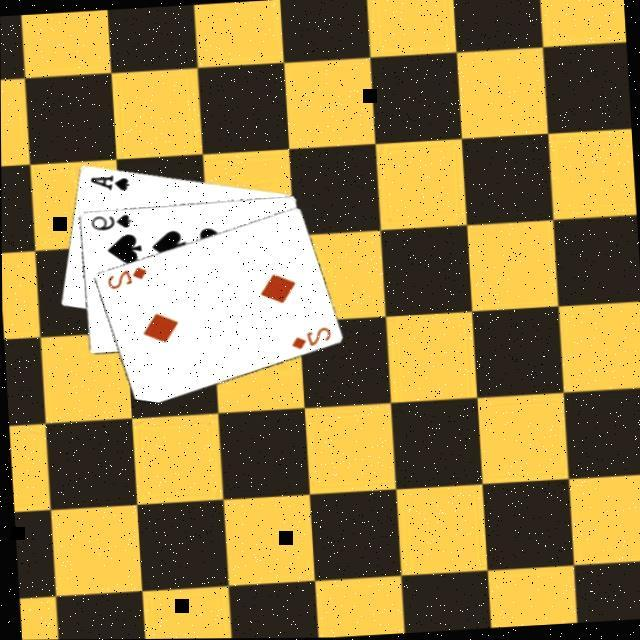2D: (104, 265, 150, 294), (288, 325, 334, 354)
9S: (88, 213, 135, 236)
AS: (88, 173, 132, 197)
